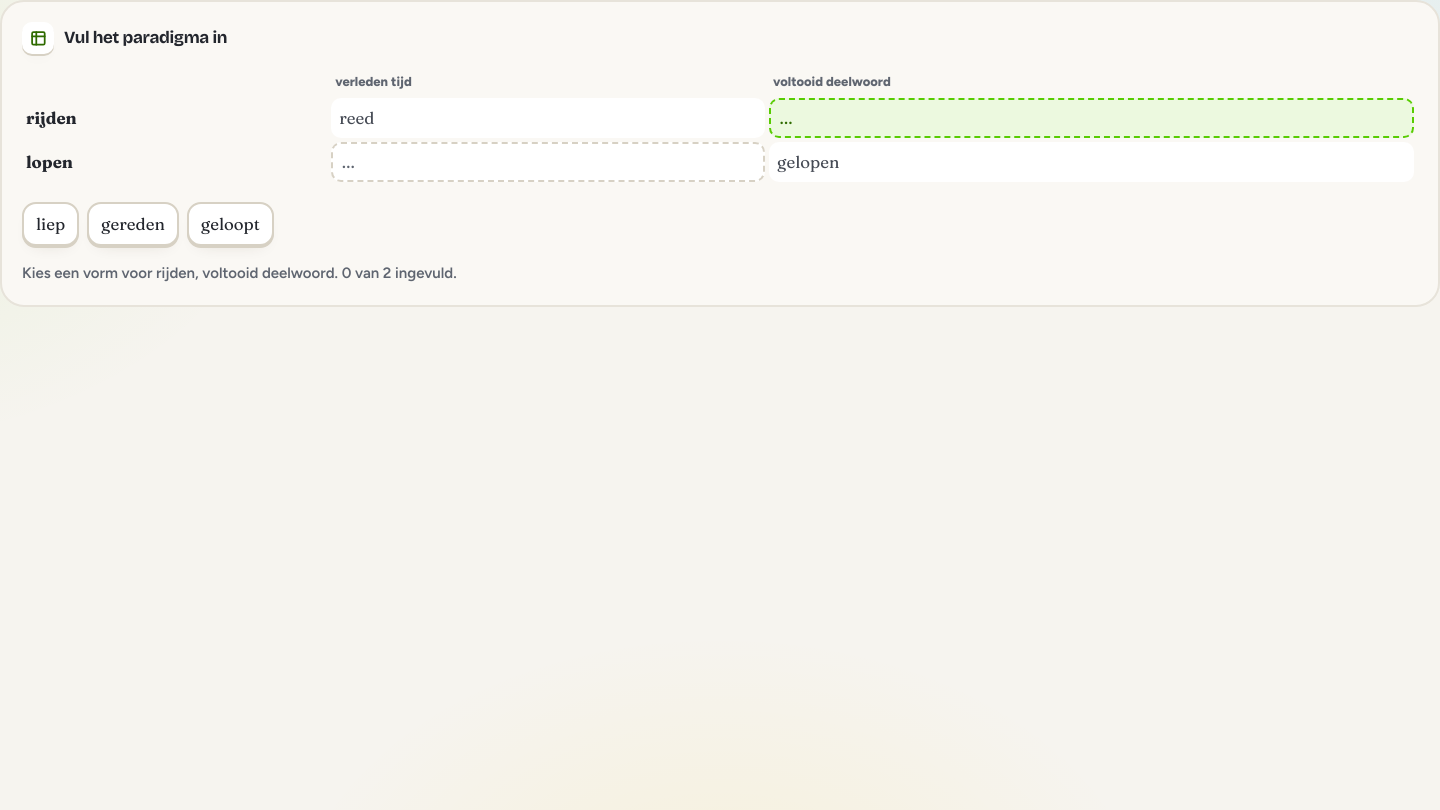
Test case: paradigma › een verkeerde vorm geeft de tip; alle vakjes goed lost op
Expected: the message shows "rijden, voltooid deelwoord", [22,264,457,282]
Click the button "geloopt".
click(230, 224)  # box [187,202,274,246]
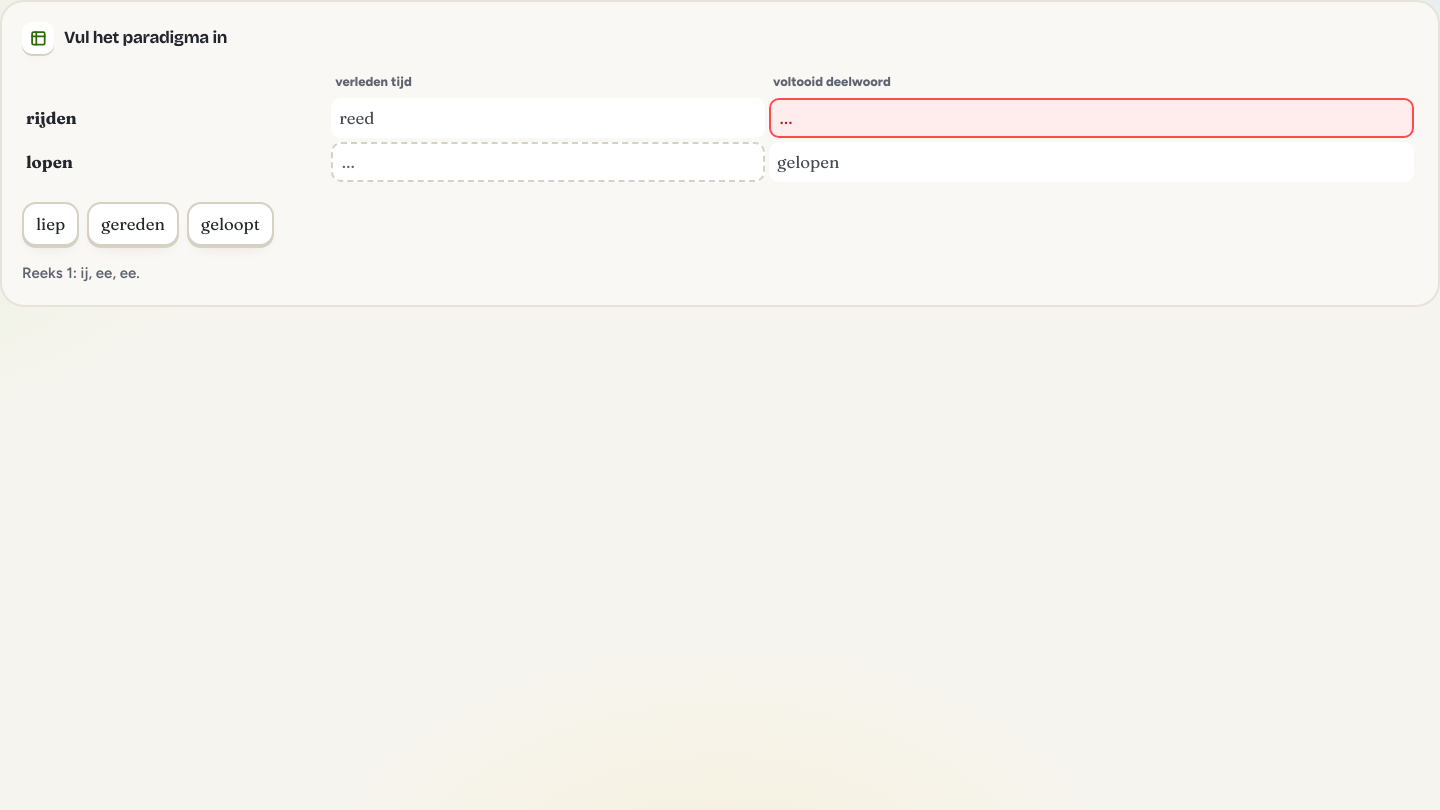
Now the message reads "Reeks 1: ij, ee, ee.", box [22,264,140,282]
Click the button "gereden".
click(133, 224)  # box [87,202,179,246]
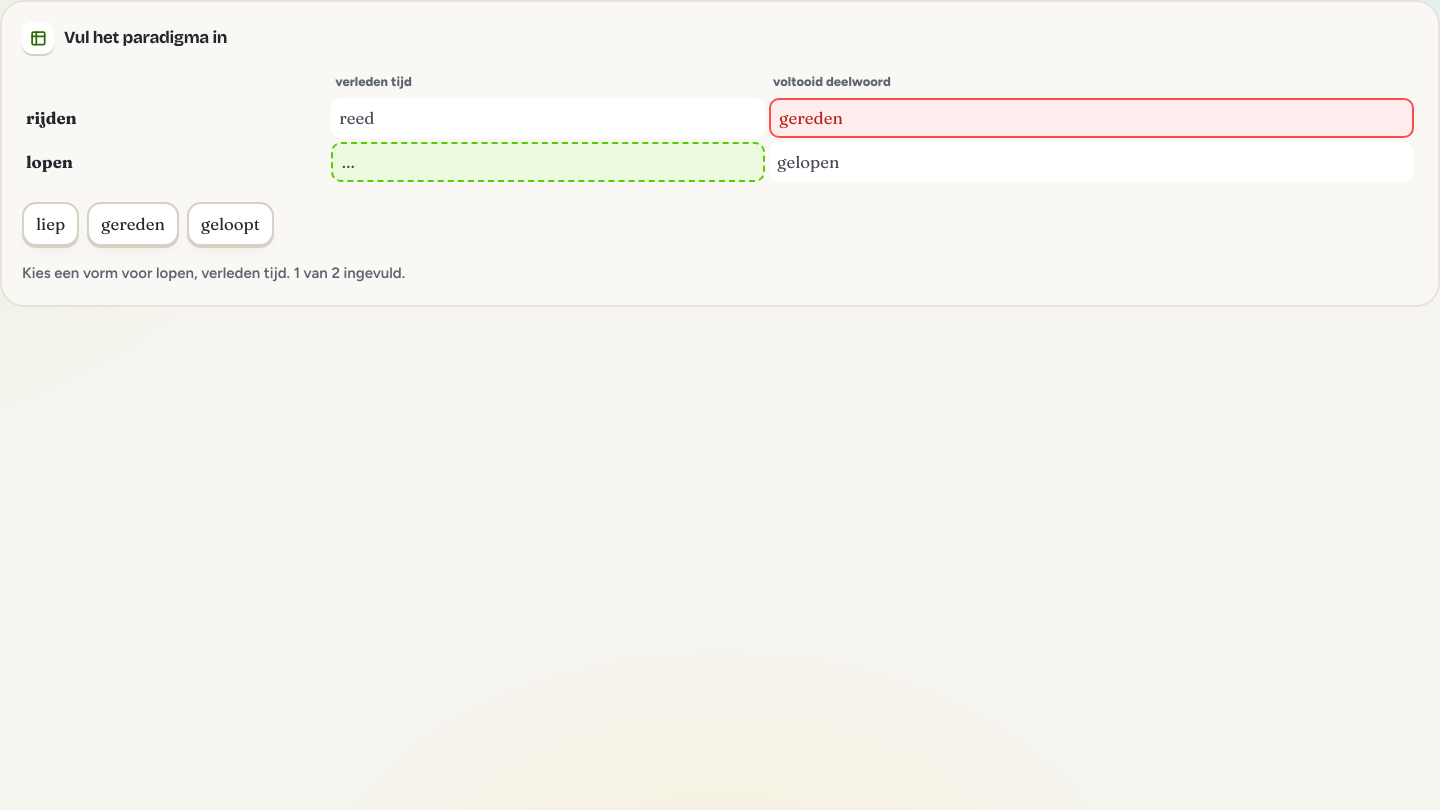
Now the button with aria-label "rijden, voltooid deelwoord: gereden" is disabled, box [769,98,1414,138]
Click the button "geloopt".
click(230, 224)  # box [187,202,274,246]
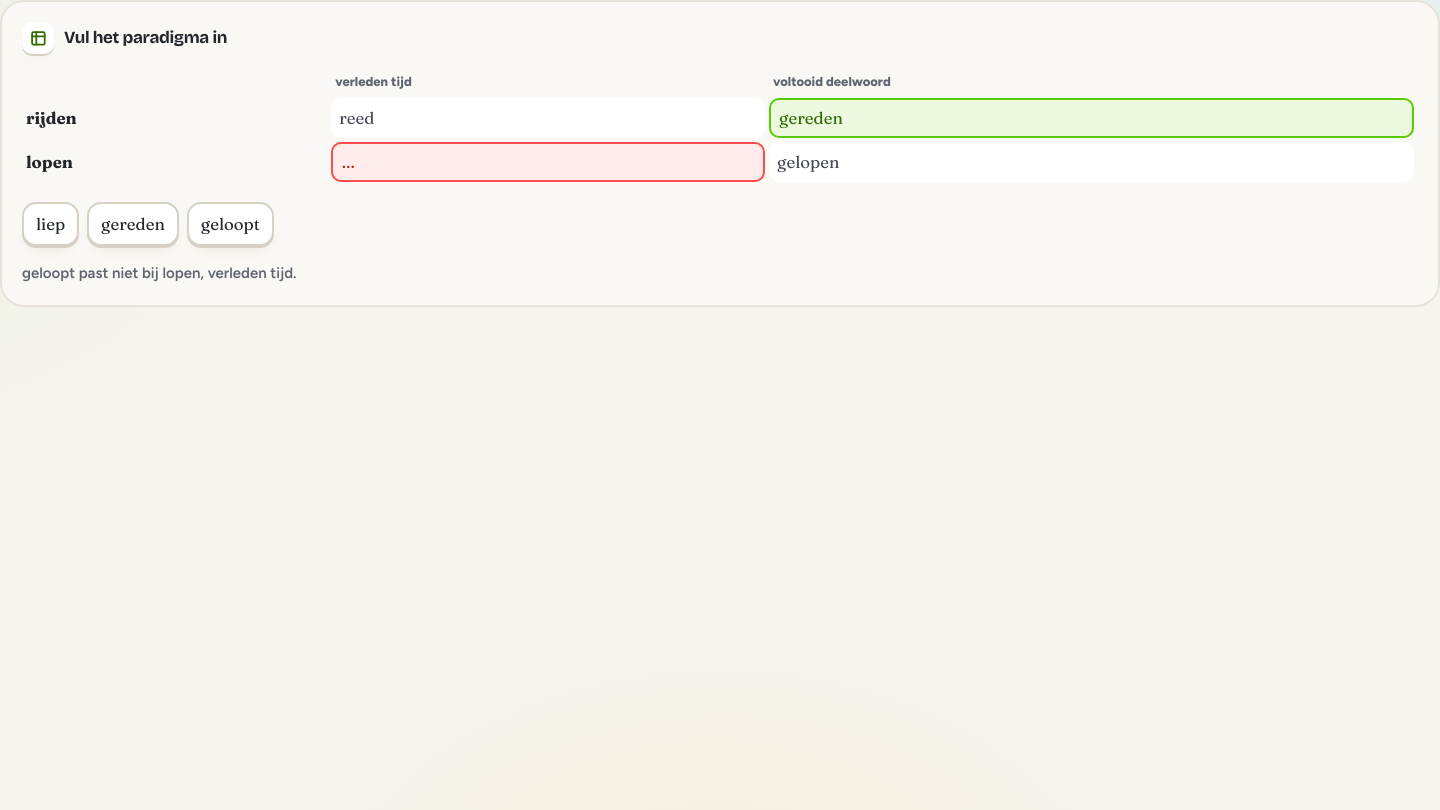
Now the message reads "geloopt past niet bij lopen, verleden tijd.", box [22,264,296,282]
Click the button "liep".
click(51, 224)  # box [22,202,79,246]
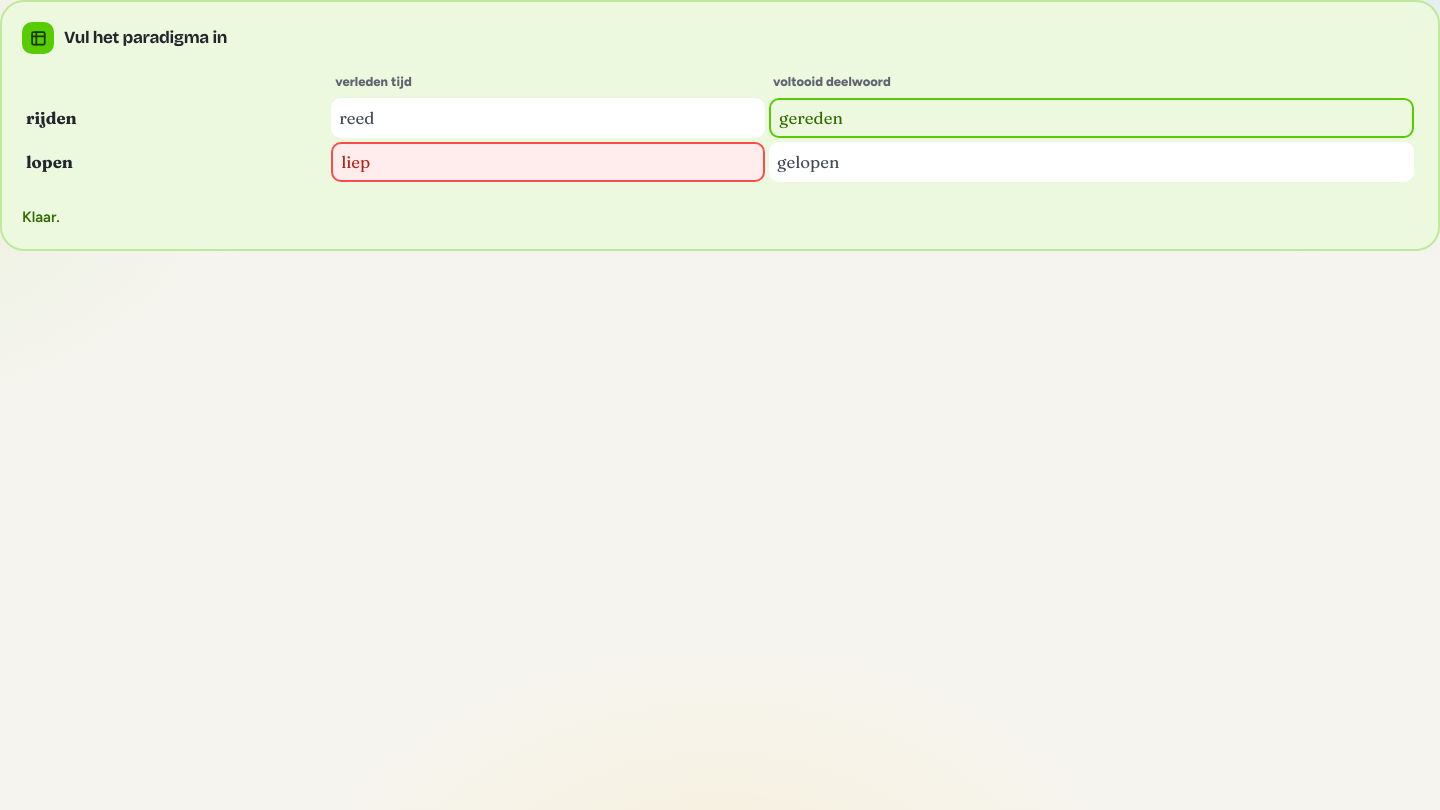
Now the message reads "Klaar.", box [22,208,60,226]
